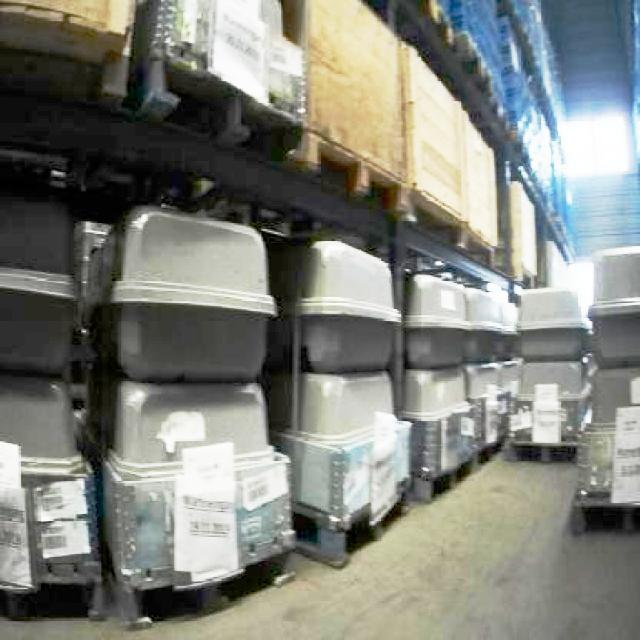ground: (0, 445, 638, 638)
pallet: (0, 0, 552, 296), (88, 203, 297, 628), (0, 188, 105, 620), (278, 235, 408, 566), (568, 237, 638, 537), (506, 285, 588, 463)
